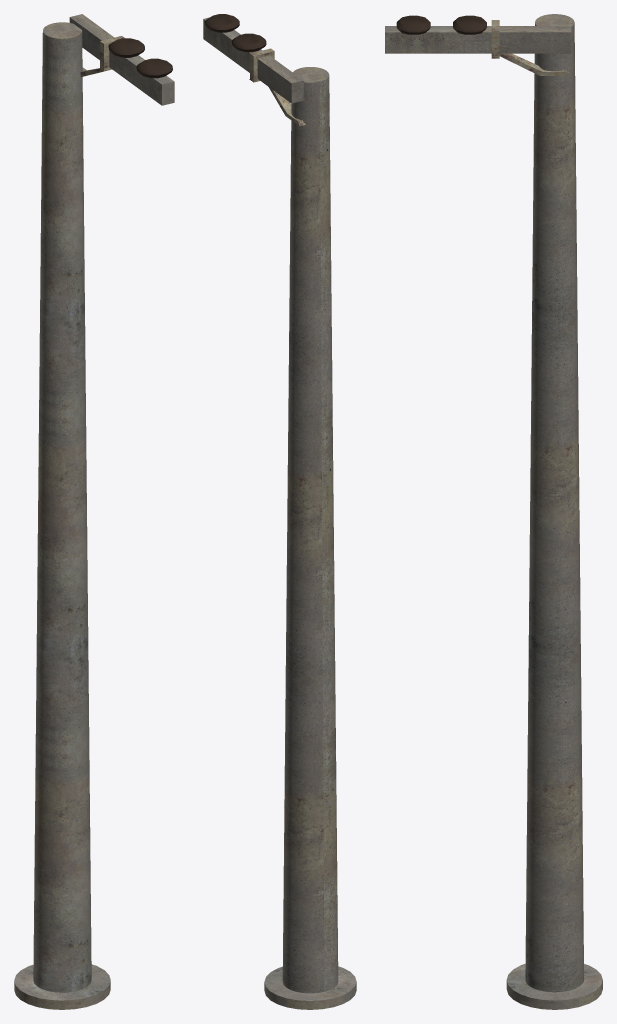
Rendered from E_Pole02_02.fbx.
3 views of the same model, side by side, from view 1: azimuth 30°, elevation 25°; view 2: azimuth 210°, elevation 25°; view 3: azimuth 270°, elevation 25° (orthographic). The views are drawn at different scales.
Visible parts, largest first — view 1: Cylinder (25); view 2: Cylinder (25); view 3: Cylinder (25).
Part boxes in pixels (box(x1,y1,x2,y2)): Cylinder (25): box(14, 14, 174, 1009); Cylinder (25): box(203, 14, 356, 1009); Cylinder (25): box(385, 14, 602, 1009).
Size of the model in its own units: 79.86 by 883 by 178.
